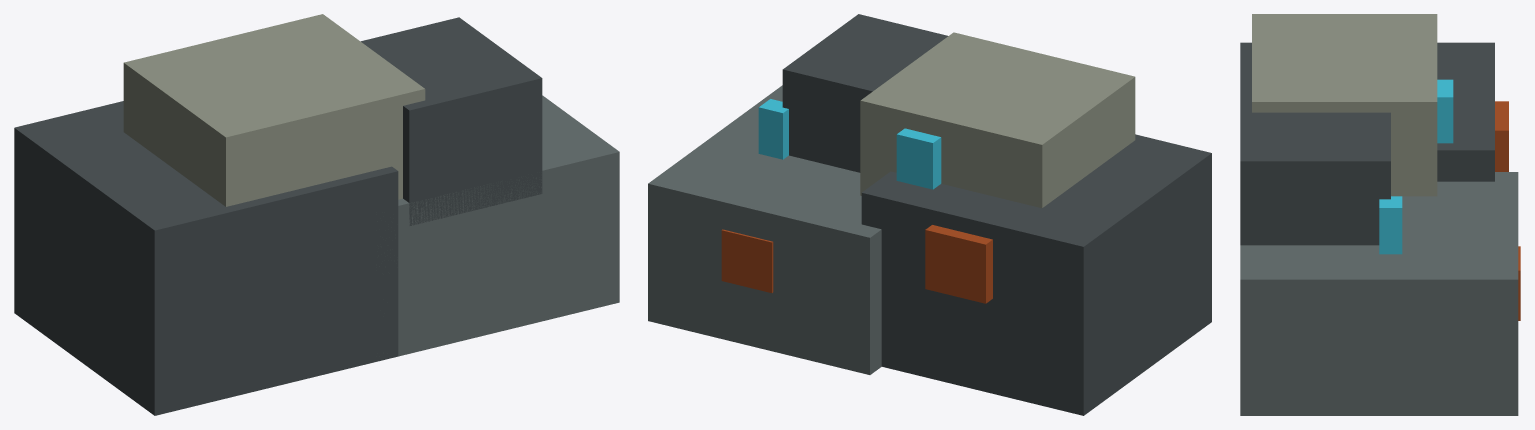
The model's file is ore_outcrop.obj.
The picture shows the model from 3 angles, left to right: view 1: azimuth 30°, elevation 25°; view 2: azimuth 150°, elevation 25°; view 3: azimuth 270°, elevation 25°; orthographic projection. The views are drawn at different scales.
Parts seen in each view (by area): view 1: stone_dark, stone_light, stone; view 2: stone_dark, stone, stone_light, ore_copper, ore_crystal; view 3: stone, stone_dark, stone_light, ore_crystal, ore_copper.
Boxes of the visible parts, <box> form: stone_dark: <box>14,17,542,415</box>; stone_light: <box>123,14,425,206</box>; stone: <box>377,95,619,356</box>; stone_dark: <box>782,14,1211,415</box>; stone: <box>648,85,881,374</box>; stone_light: <box>860,32,1135,208</box>; ore_copper: <box>721,225,992,303</box>; ore_crystal: <box>758,99,941,189</box>; stone: <box>1240,172,1518,415</box>; stone_dark: <box>1240,42,1494,245</box>; stone_light: <box>1252,14,1437,196</box>; ore_crystal: <box>1379,79,1453,254</box>; ore_copper: <box>1495,101,1520,320</box>.
Size of the model in its own units: 2.1 by 1.1 by 1.21.
